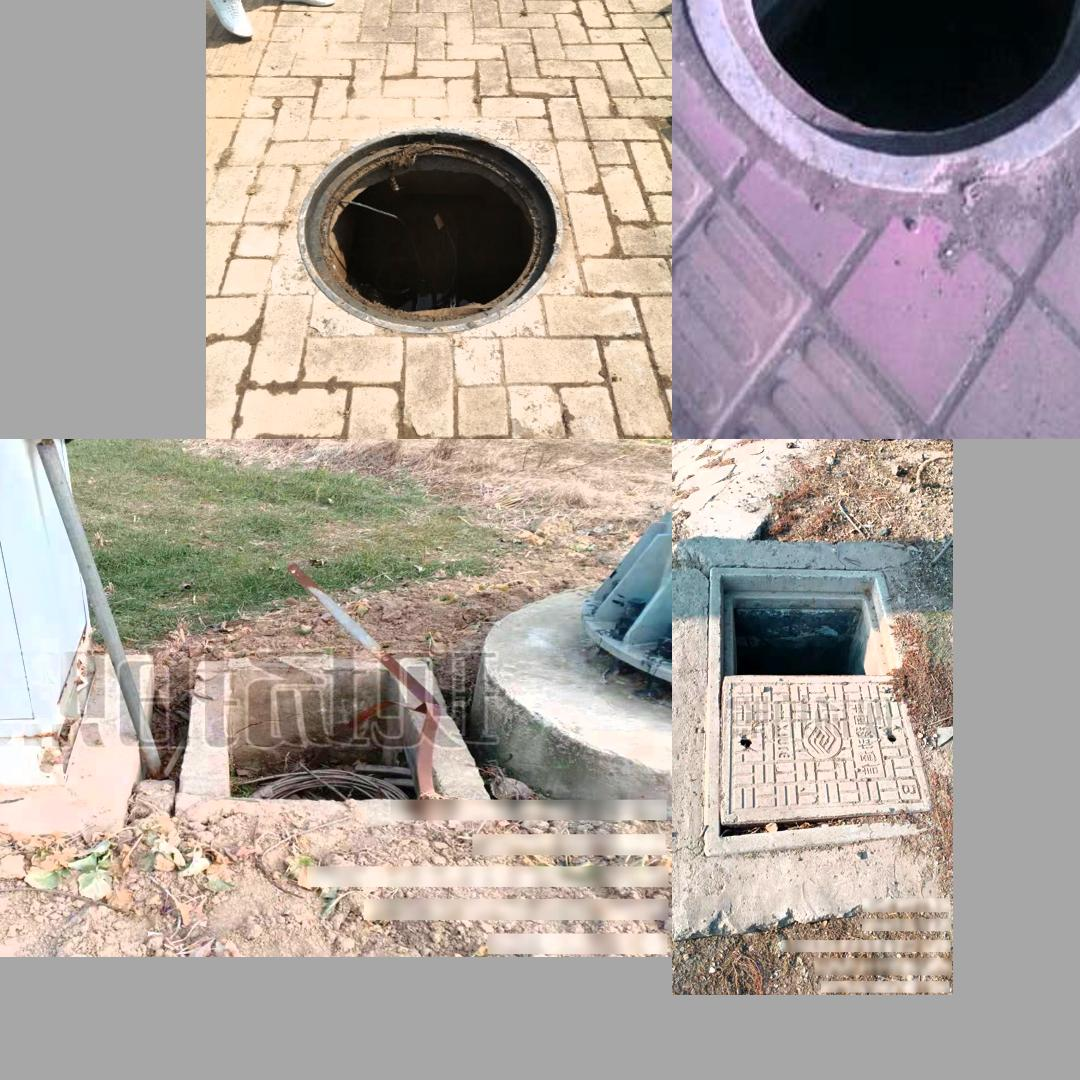lose: (681, 0, 1080, 194), (703, 566, 933, 858), (297, 127, 563, 333), (224, 657, 443, 801)
